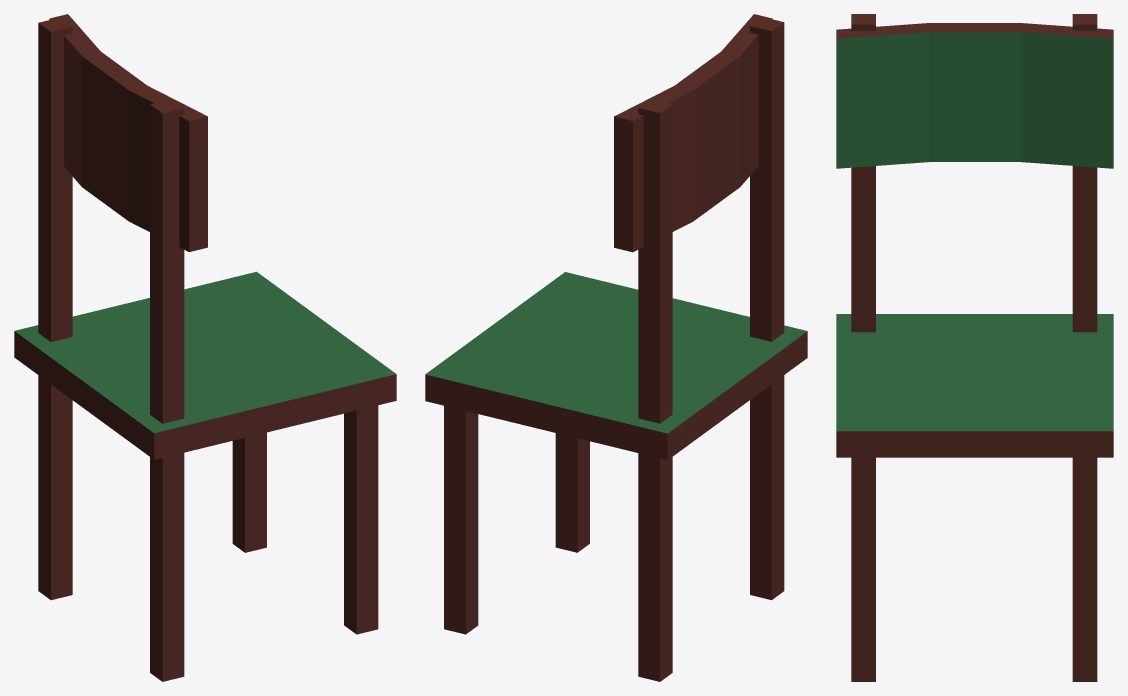
The model's file is wood_chair.fbx.
3 renders of one model, left to right at view 1: azimuth 30°, elevation 25°; view 2: azimuth 150°, elevation 25°; view 3: azimuth 270°, elevation 25°, orthographic.
Visible parts, largest first — view 1: Cube.008_Cube.007; view 2: Cube.008_Cube.007; view 3: Cube.008_Cube.007.
Part boxes in pixels (x1,y1,x2,y2): Cube.008_Cube.007: [14, 14, 396, 681]; Cube.008_Cube.007: [425, 14, 807, 681]; Cube.008_Cube.007: [836, 14, 1113, 681].
Size of the model in its own units: 105 by 236 by 105.
